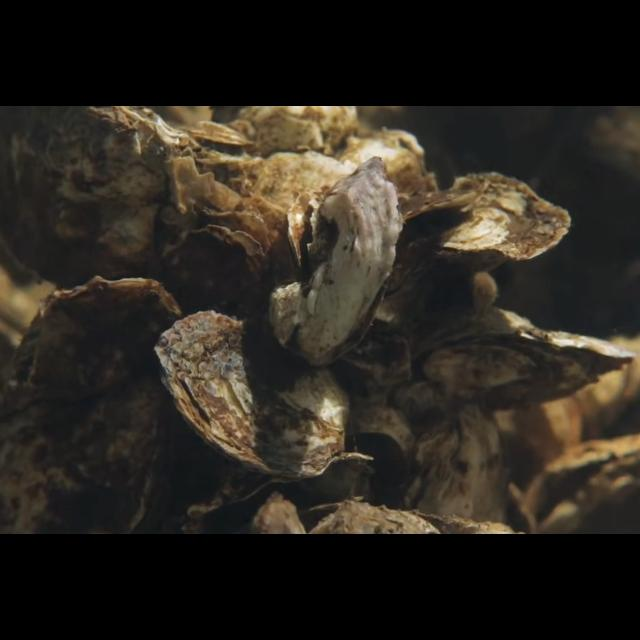Oyster-Closed: (0, 274, 184, 534), (150, 310, 356, 480), (264, 156, 400, 368), (410, 308, 640, 414), (382, 172, 574, 298), (394, 403, 512, 535)
Oyster-Indeterminate: (0, 106, 220, 288), (156, 224, 268, 326)
Oyster-Open: (196, 453, 374, 535), (525, 437, 640, 535)
